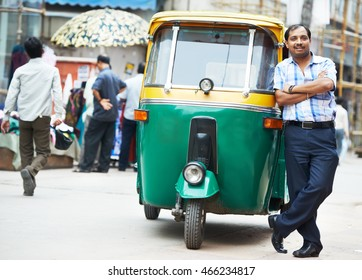threewheel: (133, 11, 287, 250)
